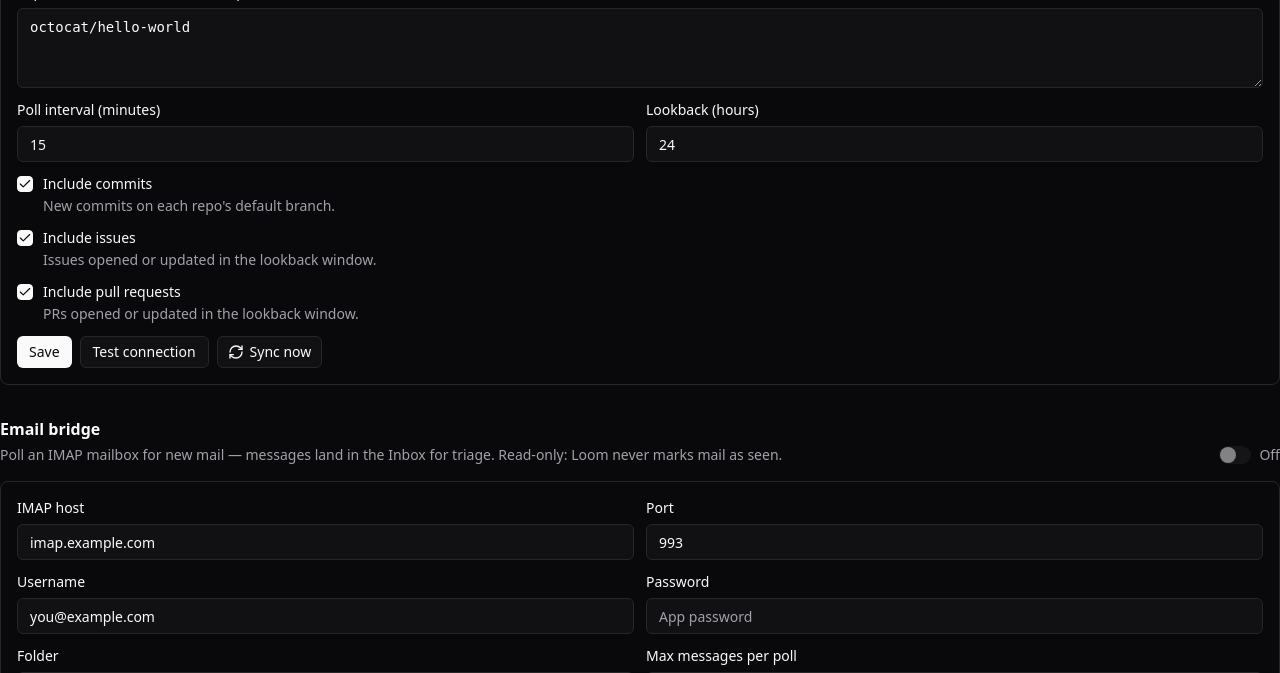
it: ConnectionsSection › syncs GitHub and reports created captures and repo errors
(page scrolled)
Expected: the text box showing "octocat/hello-world" is shown, [17,8,1263,88]
Click the button "Sync now" at (269, 352), box [217,336,322,368]
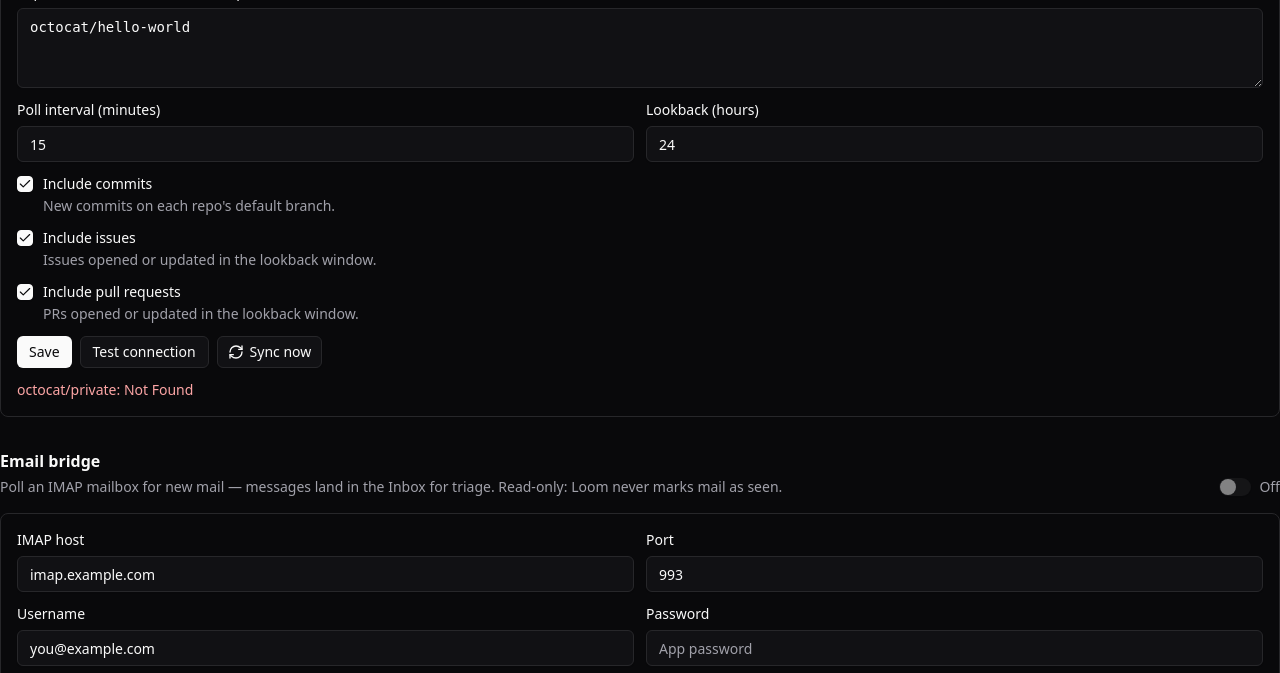
Expected: the text "octocat/private: Not Found" is shown, [17,380,193,399]
